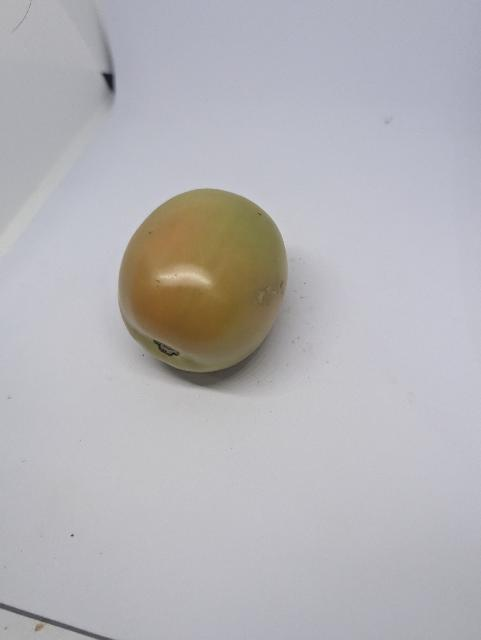breaker: (118, 189, 288, 373)
